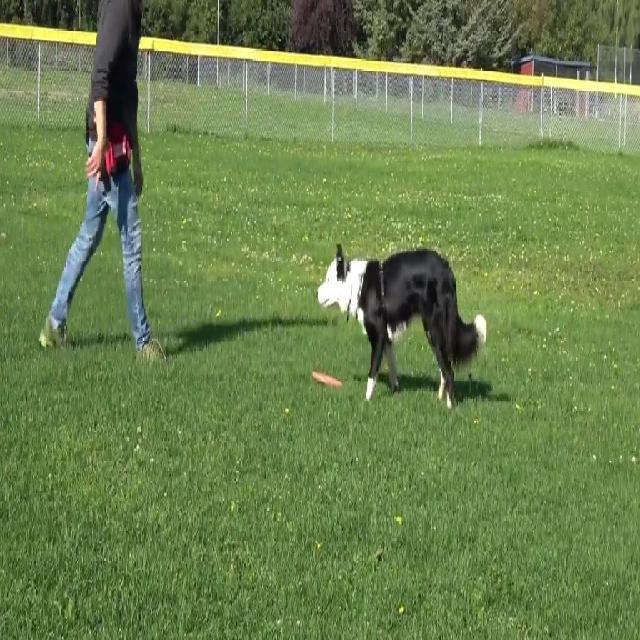Unleashed_Dog: (100, 126, 487, 410)
